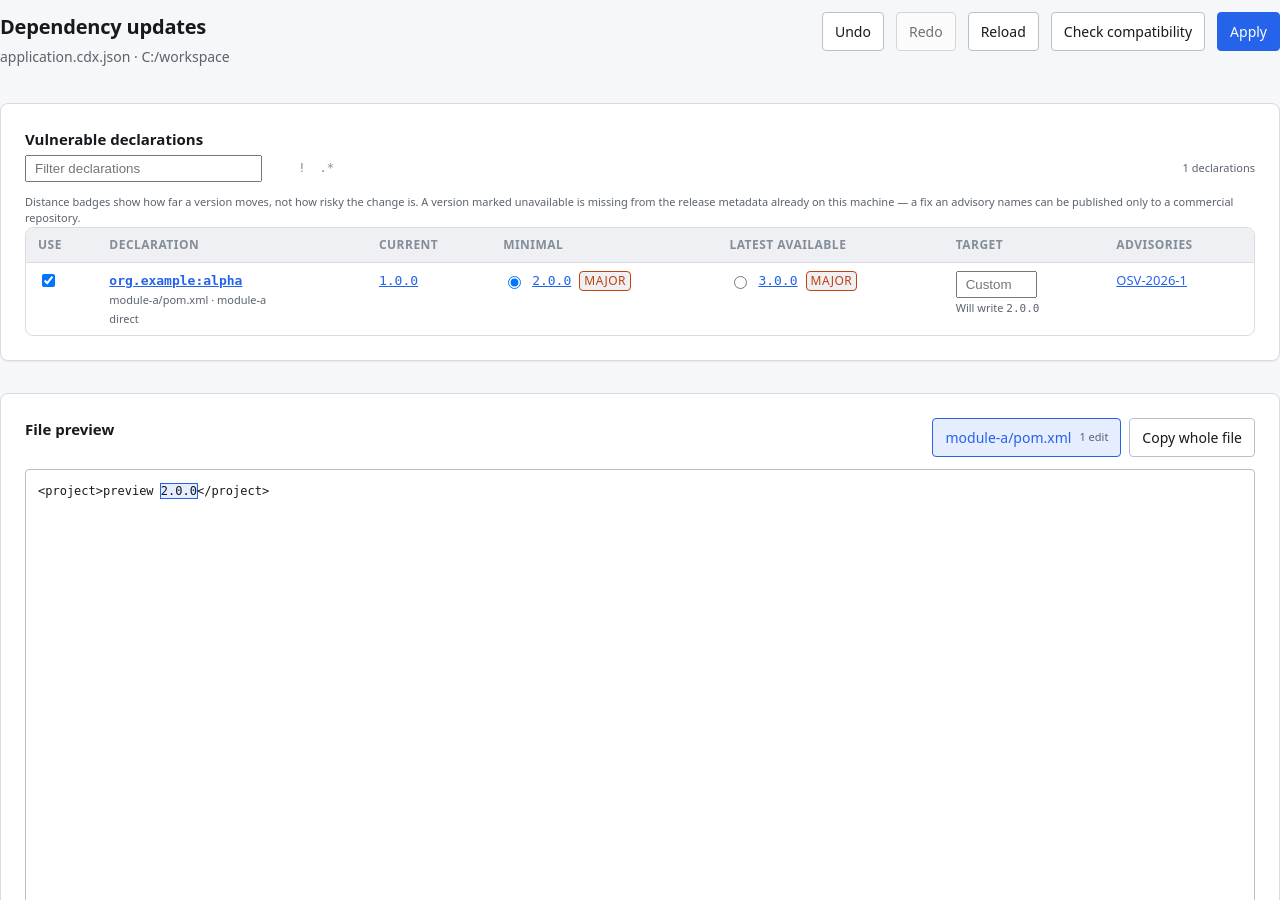
it: BumpPage › names every file and its edit count before writing anything
Expected: the checkbox named "Select org.example:alpha" is shown, x1=42 y1=274 x2=55 y2=286
Click the button "Apply" at (1249, 32), box x1=1217 y1=12 x2=1279 y2=51
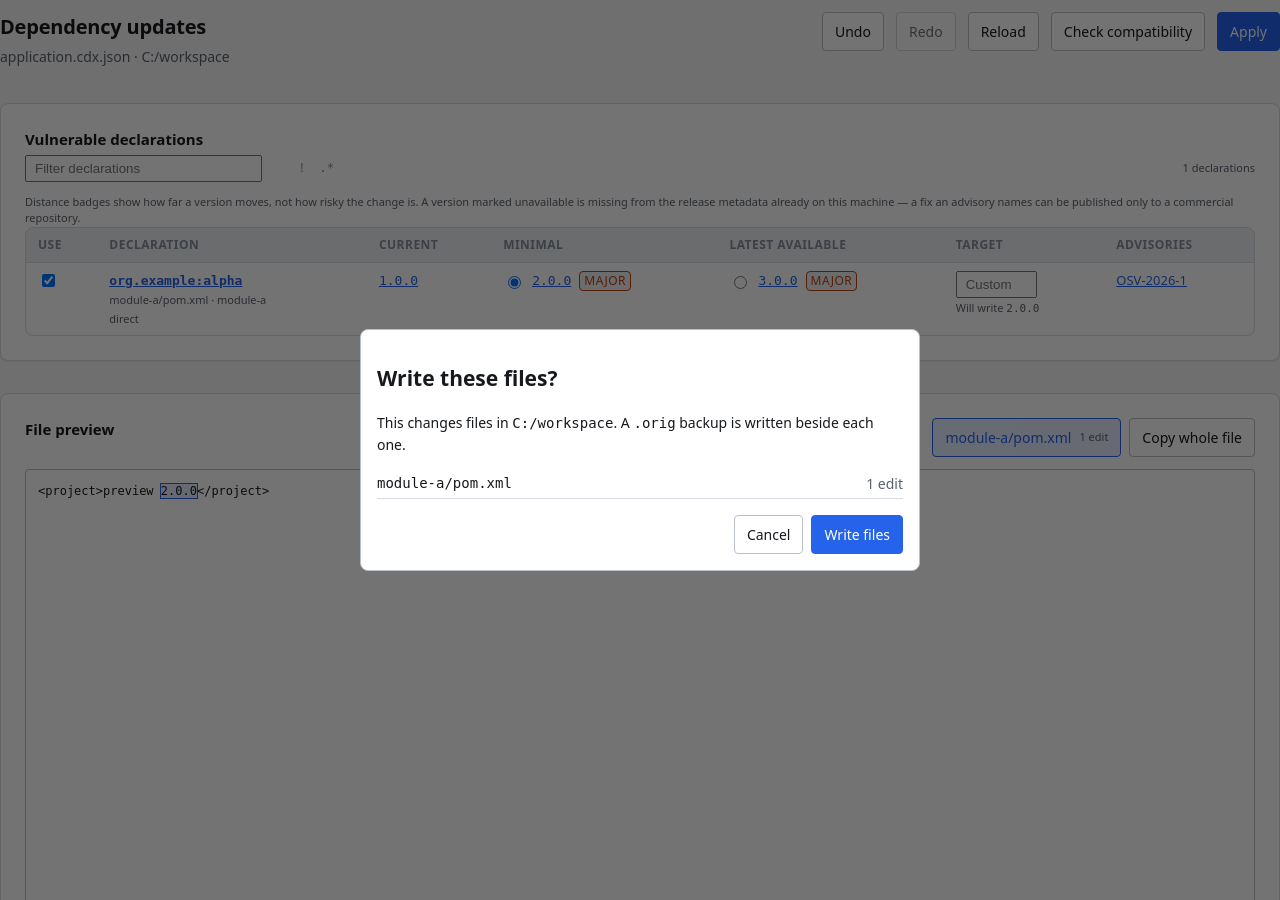
Expected: the dialog shows "module-a/pom.xml", x1=377 y1=475 x2=512 y2=491
Expected: the dialog shows "1 edit"
Expected: the dialog shows "C:/workspace", x1=512 y1=415 x2=614 y2=431
